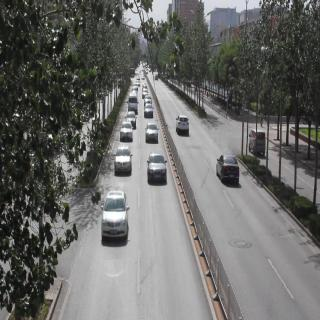Car: (101, 194, 131, 244), (218, 151, 240, 189), (247, 126, 267, 160), (146, 151, 167, 181), (114, 145, 134, 174), (119, 120, 134, 140), (175, 114, 190, 134), (146, 122, 160, 142), (144, 103, 154, 119)
